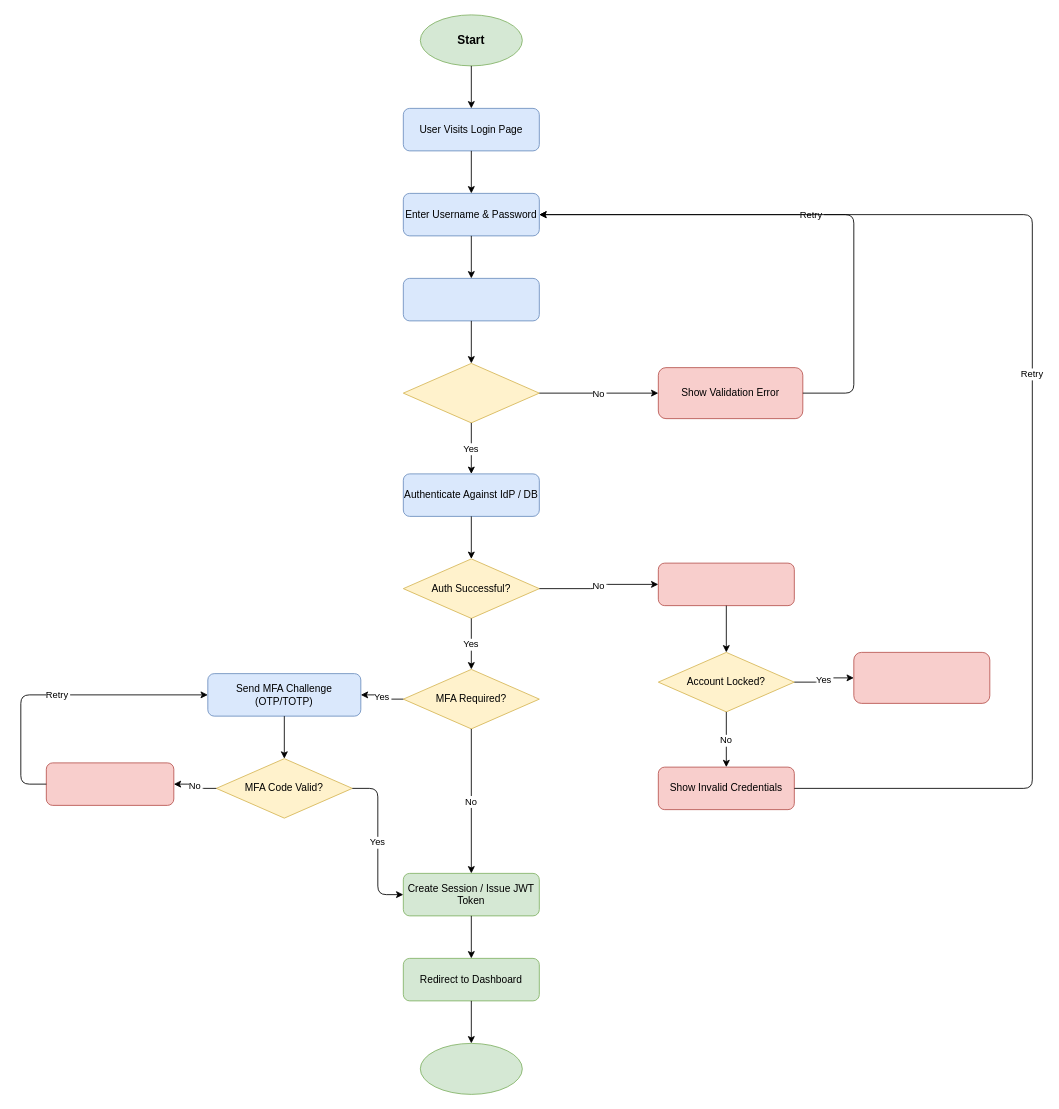
Some shapes in this 1059 by 1109 pixel diagram are drawn without their labels. Here are the shapes that lost their labels. From the top down, the centre of each, then its label:
the point at 470,299: Submit Login Form
the point at 470,393: Fields Valid?
the point at 725,584: Increment Failed Attempts
the point at 921,677: Lock Account & Notify User
the point at 109,783: Show MFA Error
the point at 470,1068: End
